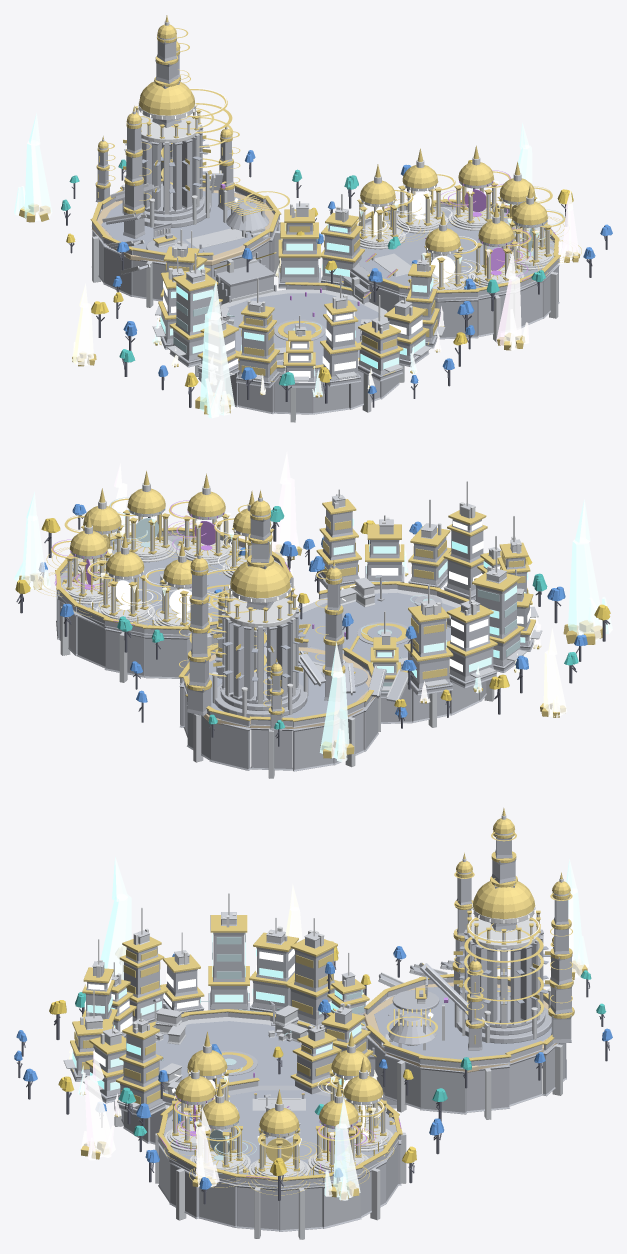
Rendered from lobby_v4.fbx.
The picture shows the model from 3 angles, top to bottom: view 1: azimuth 30°, elevation 25°; view 2: azimuth 150°, elevation 25°; view 3: azimuth 270°, elevation 25°; orthographic projection. The views are drawn at different scales.
Parts seen in each view (by area): view 1: GRATE__Praca_Piso, GRATE__Terraco_Piso, GRATE__Refinaria_Piso, CRYSTALBLUE__CristalMestre_Corpo, CRYSTALBLUE__CristalRef_Corpo, HULLDARK__EscadaoNorte_Sapata, CRYSTALVIO__CristalVio_Corpo, HULLDARK__Terraco_Saia.011, PLATEWARM__Refinaria_Laje, HULLLIGHT__Reator_Tampa, CRYSTALGOLD__CristalOuro_Corpo, HULLDARK__Refinaria_Saia.007 (+20 smaller); view 2: GRATE__Praca_Piso, CRYSTALBLUE__CristalMestre_Corpo, GRATE__Terraco_Piso, HULLDARK__Refinaria_Saia.003, HULLDARK__Terraco_Saia.005, CRYSTALBLUE__CristalRef_Corpo, GRATE__Refinaria_Piso, HULLDARK__Refinaria_Saia.004, CRYSTALBLUE__CristalTer_Corpo, HULLDARK__Refinaria_Saia.005, HULLDARK__Terraco_Saia.004, HULLLIGHT__Reator_Tampa (+39 smaller); view 3: GRATE__Praca_Piso, GRATE__Terraco_Piso, GRATE__Refinaria_Piso, HULLDARK__Refinaria_Saia.013, CRYSTALBLUE__CristalMestre_Corpo, HULLDARK__Terraco_Saia.016, HULLDARK__Refinaria_Saia, HULLDARK__Terraco_Saia, CRYSTALVIO__CristalVio_Corpo, HULLDARK__Terraco_Saia.015, HULLDARK__Refinaria_Saia.001, CRYSTALBLUE__CristalTer_Corpo (+25 smaller).
Part boxes in pixels (bbox=[...]): GRATE__Praca_Piso: bbox=[227, 293, 380, 365]; GRATE__Terraco_Piso: bbox=[359, 211, 545, 288]; GRATE__Refinaria_Piso: bbox=[101, 191, 268, 255]; CRYSTALBLUE__CristalMestre_Corpo: bbox=[199, 312, 234, 413]; CRYSTALBLUE__CristalRef_Corpo: bbox=[24, 140, 52, 221]; HULLDARK__EscadaoNorte_Sapata: bbox=[216, 261, 274, 304]; CRYSTALVIO__CristalVio_Corpo: bbox=[496, 276, 521, 347]; HULLDARK__Terraco_Saia.011: bbox=[438, 298, 478, 339]; PLATEWARM__Refinaria_Laje: bbox=[92, 188, 278, 265]; HULLLIGHT__Reator_Tampa: bbox=[141, 115, 200, 142]; CRYSTALGOLD__CristalOuro_Corpo: bbox=[72, 303, 93, 365]; HULLDARK__Refinaria_Saia.007: bbox=[103, 245, 132, 296]; GRATE__Praca_Piso: bbox=[298, 593, 455, 671]; CRYSTALBLUE__CristalMestre_Corpo: bbox=[568, 537, 602, 641]; GRATE__Terraco_Piso: bbox=[72, 539, 239, 625]; HULLDARK__Refinaria_Saia.003: bbox=[209, 723, 250, 770]; HULLDARK__Terraco_Saia.005: bbox=[144, 636, 187, 678]; CRYSTALBLUE__CristalRef_Corpo: bbox=[319, 672, 349, 758]; GRATE__Refinaria_Piso: bbox=[209, 651, 368, 718]; HULLDARK__Refinaria_Saia.004: bbox=[250, 728, 292, 770]; CRYSTALBLUE__CristalTer_Corpo: bbox=[21, 515, 46, 589]; HULLDARK__Refinaria_Saia.005: bbox=[292, 725, 333, 771]; HULLDARK__Terraco_Saia.004: bbox=[104, 628, 144, 677]; HULLLIGHT__Reator_Tampa: bbox=[224, 597, 296, 627]; GRATE__Praca_Piso: bbox=[155, 1021, 301, 1093]; GRATE__Terraco_Piso: bbox=[178, 1090, 380, 1175]; GRATE__Refinaria_Piso: bbox=[374, 986, 551, 1059]; HULLDARK__Refinaria_Saia.013: bbox=[420, 1067, 466, 1114]; CRYSTALBLUE__CristalMestre_Corpo: bbox=[100, 894, 131, 979]; HULLDARK__Terraco_Saia.016: bbox=[236, 1184, 279, 1231]; HULLDARK__Refinaria_Saia: bbox=[466, 1064, 510, 1112]; HULLDARK__Terraco_Saia: bbox=[279, 1186, 322, 1231]; CRYSTALVIO__CristalVio_Corpo: bbox=[84, 1075, 115, 1157]; HULLDARK__Terraco_Saia.015: bbox=[199, 1181, 236, 1227]; HULLDARK__Refinaria_Saia.001: bbox=[509, 1054, 542, 1106]; CRYSTALBLUE__CristalTer_Corpo: bbox=[333, 1124, 360, 1197].
Bounding box in the file's own units: 354 × 187 × 333.
